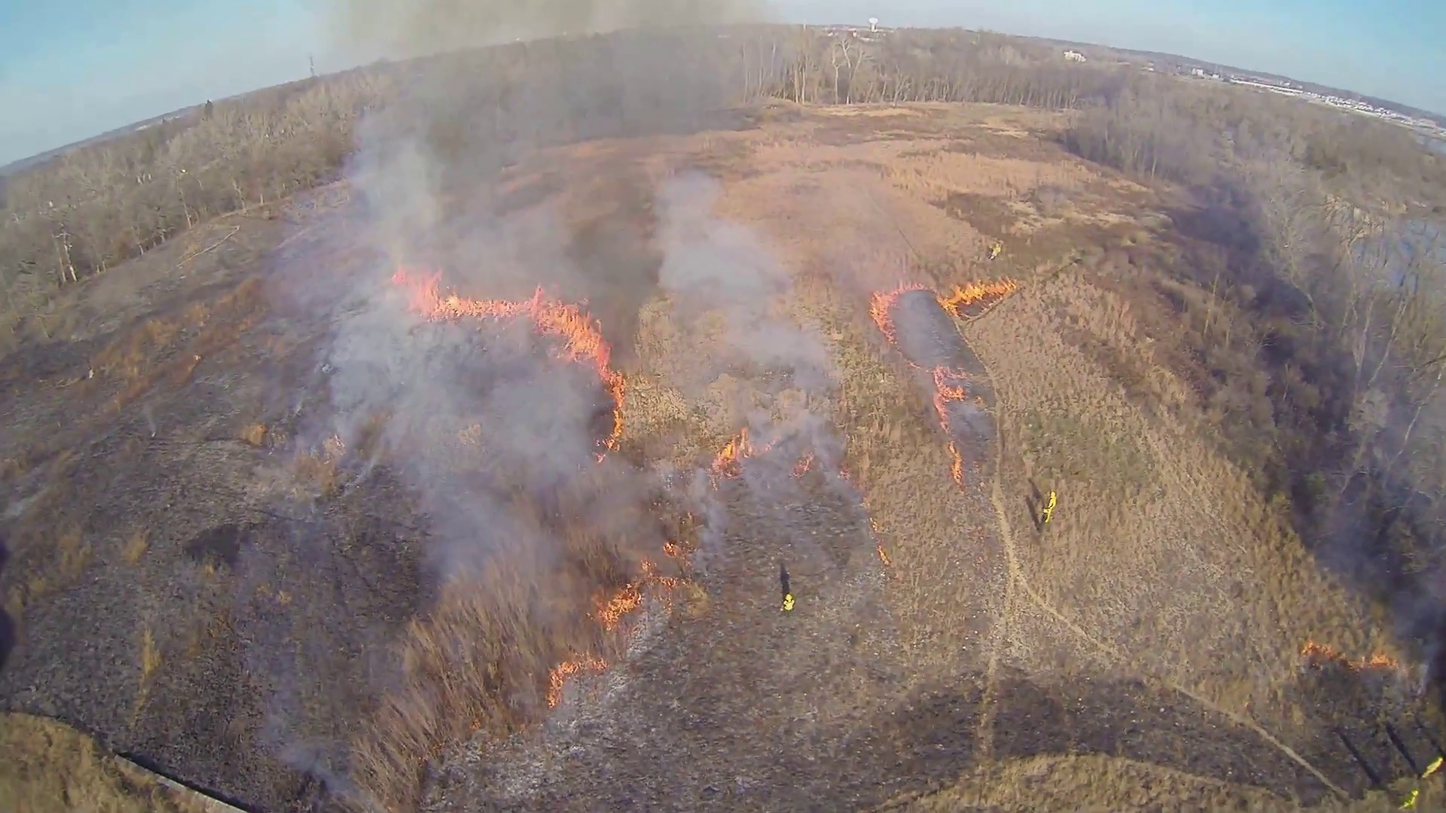forest_fire: (392, 269, 626, 462), (869, 279, 1018, 343), (596, 561, 679, 629), (708, 429, 776, 484), (919, 361, 968, 428), (1301, 641, 1399, 671), (548, 656, 606, 706), (947, 440, 963, 485)
